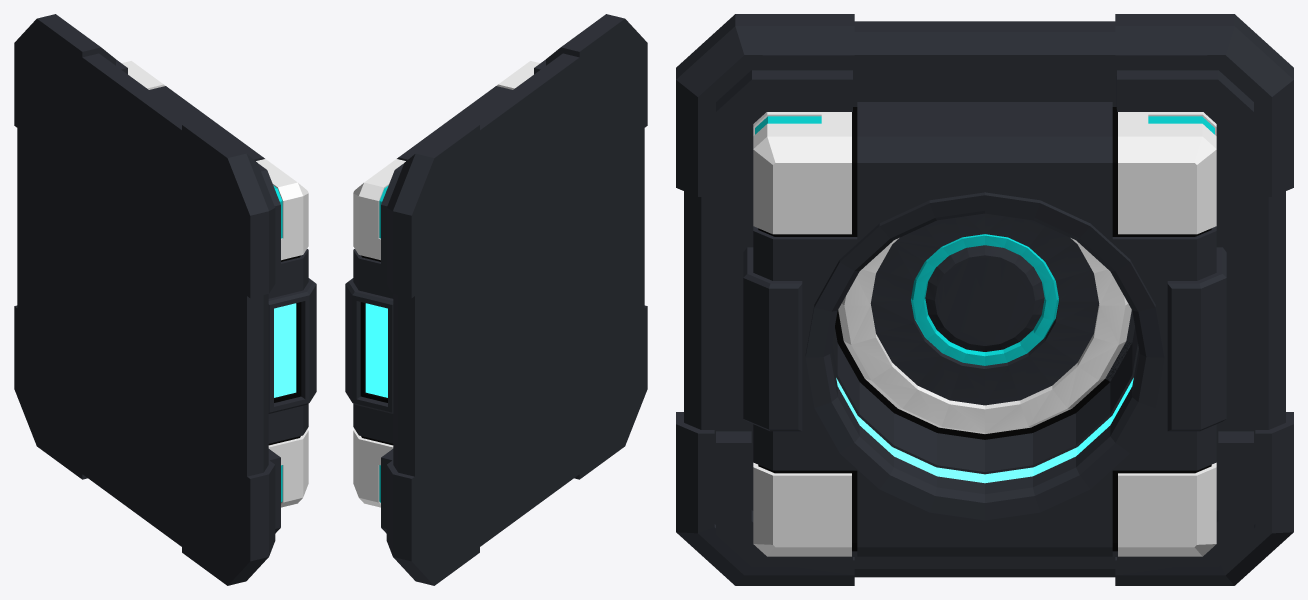
Rendered from SM_CableAdapter_Large.fbx.
3 renders of one model, left to right at view 1: azimuth 30°, elevation 25°; view 2: azimuth 150°, elevation 25°; view 3: azimuth 270°, elevation 25°, orthographic. The views are drawn at different scales.
Visible parts, largest first — view 1: SM_CableAdapter_Large; view 2: SM_CableAdapter_Large; view 3: SM_CableAdapter_Large.
Boxes of the visible parts, x1,y1,x2,y2 form: SM_CableAdapter_Large: (14,14,316,585); SM_CableAdapter_Large: (345,14,647,585); SM_CableAdapter_Large: (676,14,1293,585).
Bounding box in the file's own units: 12.52 × 50.17 × 50.17.
